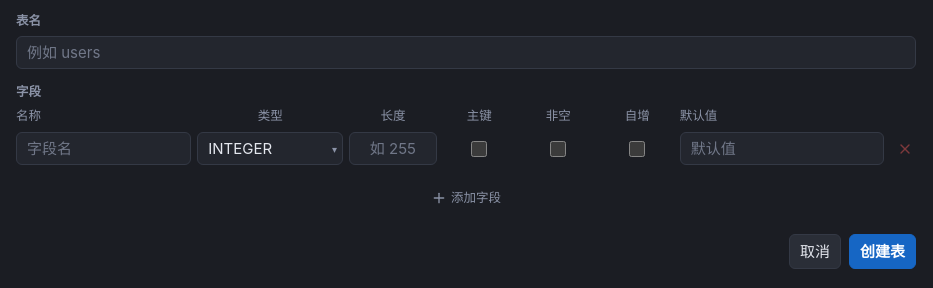
Test: 日期类型默认值 › 类型为 DATETIME 时默认值切换为 datetime-local 且带「当前时间」按钮
The width and height of the screenshot is (933, 288).
Replace the text in the field named "类型" with "DATETIME" at point(270, 149), box x1=197 y1=132 x2=343 y2=165
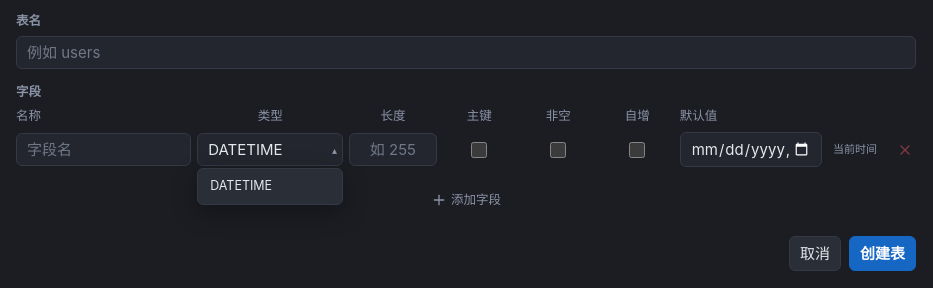
Check: the button with class "now-btn" is shown
Click the button with class "now-btn" at point(855, 150), box x1=826 y1=139 x2=884 y2=160
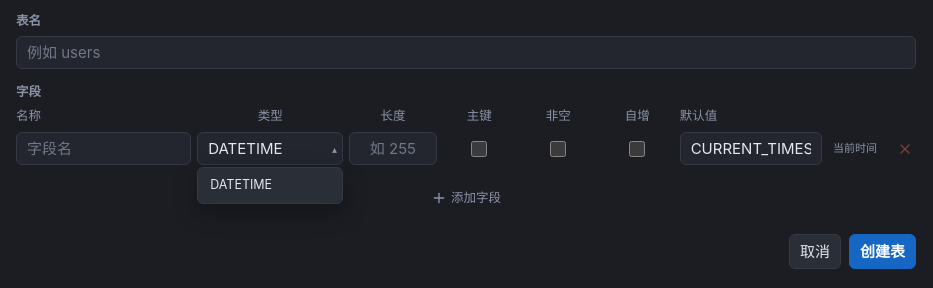
Check: the field named "默认值（日期时间选择）" shows its text, box x1=680 y1=132 x2=822 y2=165
Check: the field named "默认值（日期时间选择）" holds "CURRENT_TIMESTAMP", box x1=680 y1=132 x2=822 y2=165
